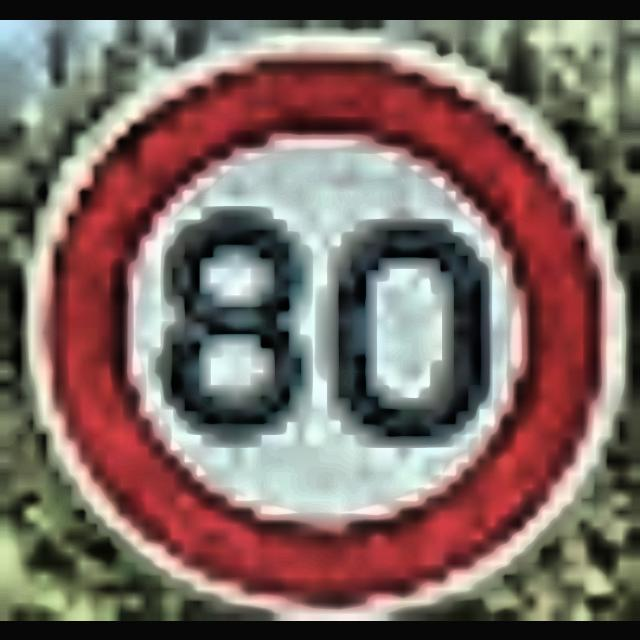speed_80: (0, 19, 628, 607)
